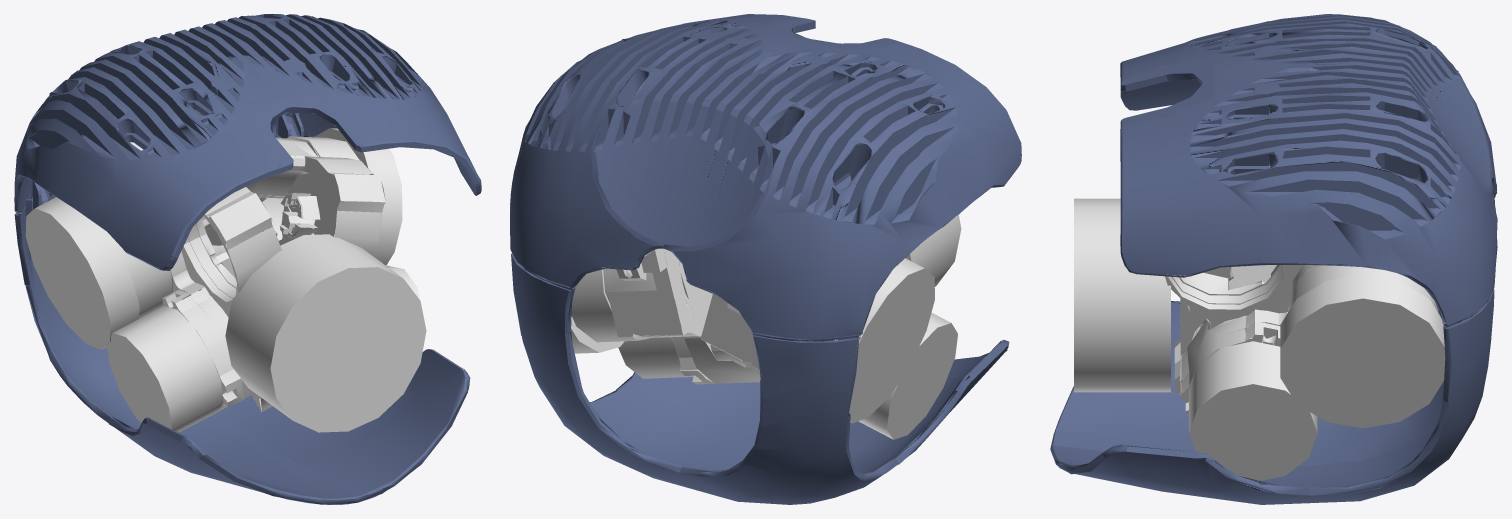
The model's file is icub_chest.glb.
3 renders of one model, left to right at view 1: azimuth 30°, elevation 25°; view 2: azimuth 150°, elevation 25°; view 3: azimuth 270°, elevation 25°, orthographic. The views are drawn at different scales.
Visible parts, largest first — view 1: torso_mesh.002, chest_cylinder_mesh, torso_mesh.001, torso_mesh; view 2: torso_mesh.002, torso_mesh.001, torso_mesh, chest_cylinder_mesh; view 3: torso_mesh.002, torso_mesh.001, chest_cylinder_mesh, torso_mesh.
Part boxes in pixels (<box>): torso_mesh.002: <box>14,14,481,504</box>; chest_cylinder_mesh: <box>225,234,426,432</box>; torso_mesh.001: <box>25,128,419,432</box>; torso_mesh: <box>130,109,385,411</box>; torso_mesh.002: <box>510,14,1021,504</box>; torso_mesh.001: <box>571,258,957,439</box>; torso_mesh: <box>603,248,760,384</box>; chest_cylinder_mesh: <box>905,214,961,286</box>; torso_mesh.002: <box>1050,14,1497,504</box>; torso_mesh.001: <box>1189,265,1445,480</box>; chest_cylinder_mesh: <box>1074,198,1170,392</box>; torso_mesh: <box>1165,187,1454,415</box>.
Size of the model in its own units: 0.19 by 0.1868 by 0.1847.
